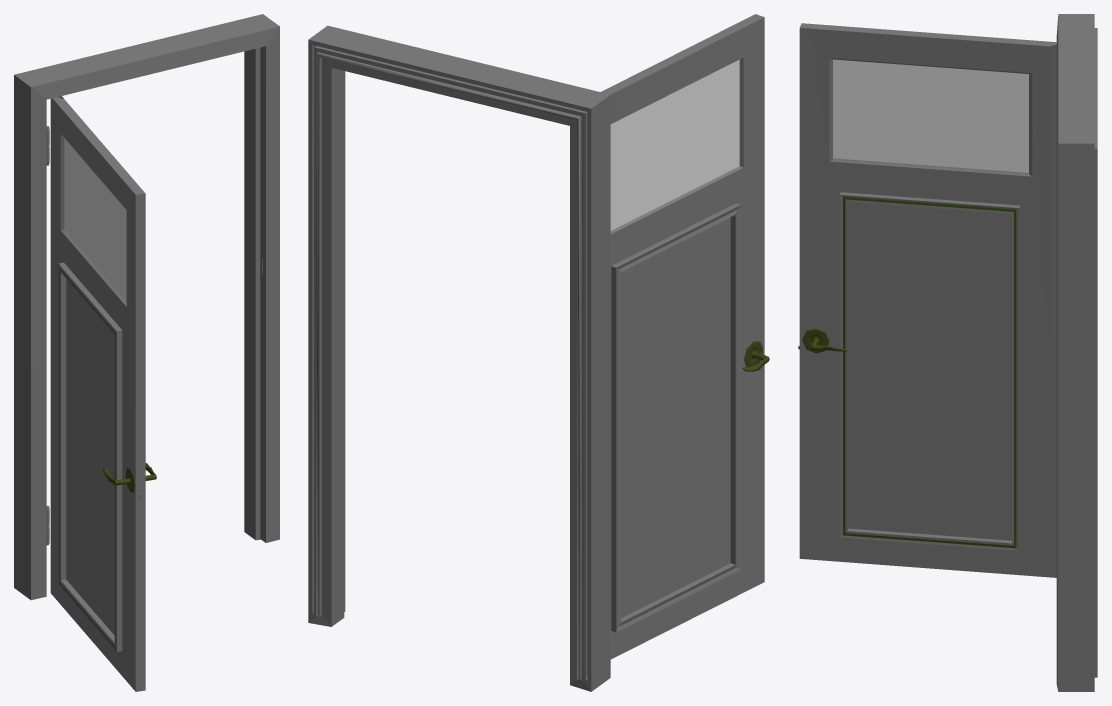
The picture shows the model from 3 angles, left to right: view 1: azimuth 30°, elevation 25°; view 2: azimuth 150°, elevation 25°; view 3: azimuth 270°, elevation 25°; orthographic projection. The views are drawn at different scales.
Visible parts, largest first — view 1: door, frame, door.001; view 2: door, frame; view 3: door, frame, door.001.
Part boxes in pixels (left/top/right/bottom): door: left=50, top=96, right=145, bottom=691; frame: left=14, top=14, right=279, bottom=600; door.001: left=103, top=463, right=156, bottom=492; door: left=601, top=14, right=764, bottom=659; frame: left=308, top=25, right=610, bottom=691; door: left=798, top=23, right=1056, bottom=577; frame: left=1056, top=14, right=1097, bottom=691; door.001: left=802, top=328, right=847, bottom=353.
Size of the model in its own units: 2.82 by 5 by 2.47.
